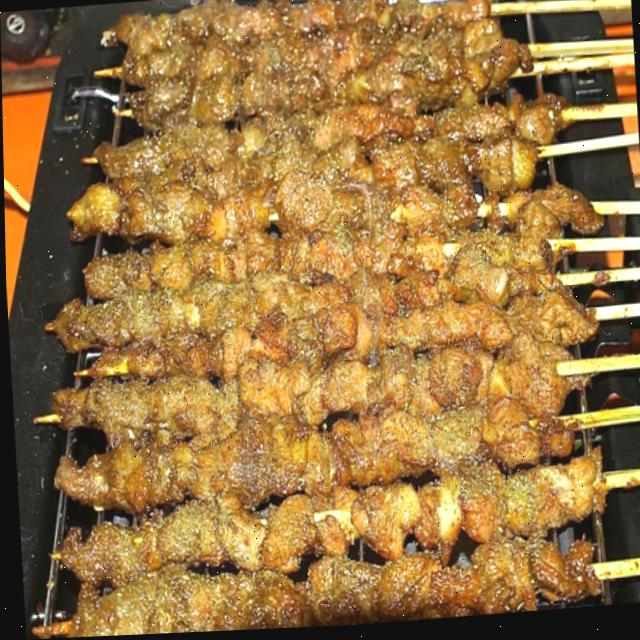烧串烤肉: (9, 0, 633, 638)
